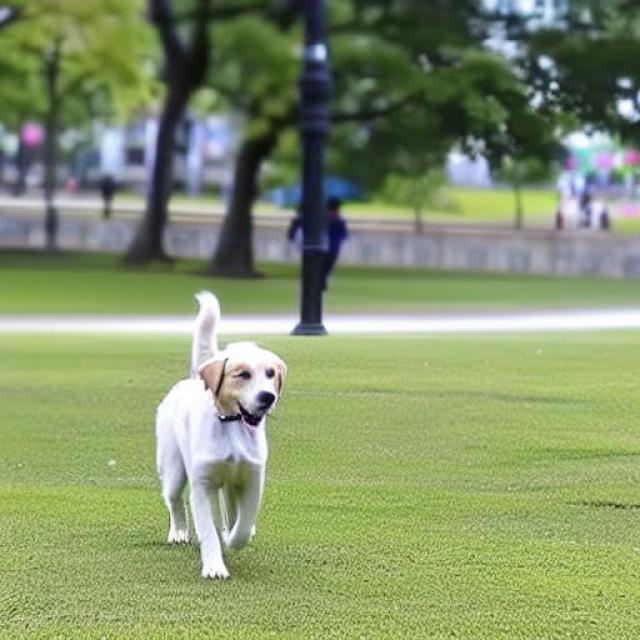Dog: (155, 290, 288, 580)
